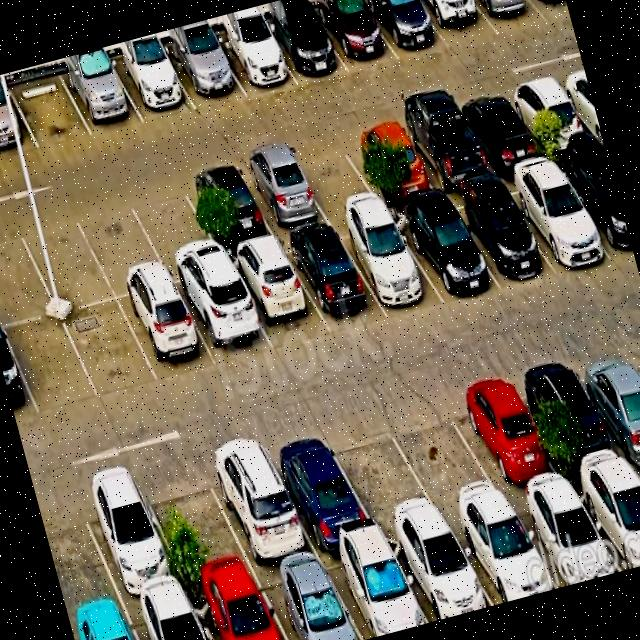empty: (379, 386, 508, 520), (134, 455, 254, 588), (320, 406, 443, 533), (35, 484, 122, 620), (125, 178, 226, 284), (15, 208, 116, 312), (74, 195, 171, 298), (61, 299, 159, 399), (3, 314, 99, 415), (286, 136, 380, 218), (8, 71, 92, 148), (0, 222, 56, 326)
occupied: (198, 433, 317, 570), (444, 370, 567, 502), (71, 469, 187, 604), (259, 423, 378, 552), (516, 352, 632, 482), (498, 162, 612, 270), (388, 199, 500, 304), (225, 241, 330, 352), (441, 183, 553, 287), (280, 226, 387, 333), (334, 213, 444, 315), (320, 538, 428, 640), (448, 504, 558, 604), (510, 488, 621, 587), (385, 523, 493, 622), (118, 285, 217, 383), (175, 271, 273, 366), (253, 557, 362, 640), (552, 149, 634, 259), (568, 340, 640, 465), (394, 104, 494, 191), (179, 163, 275, 252), (235, 149, 329, 235), (341, 120, 437, 201), (453, 88, 544, 170), (503, 74, 594, 154), (572, 467, 640, 570), (260, 8, 348, 84), (188, 574, 286, 640), (109, 49, 196, 123), (59, 59, 143, 135), (311, 0, 398, 73), (210, 24, 296, 95), (164, 37, 245, 108), (364, 0, 449, 59), (125, 590, 210, 640), (416, 0, 498, 50), (0, 324, 39, 422), (0, 84, 38, 158), (473, 0, 547, 34), (70, 607, 138, 640)
